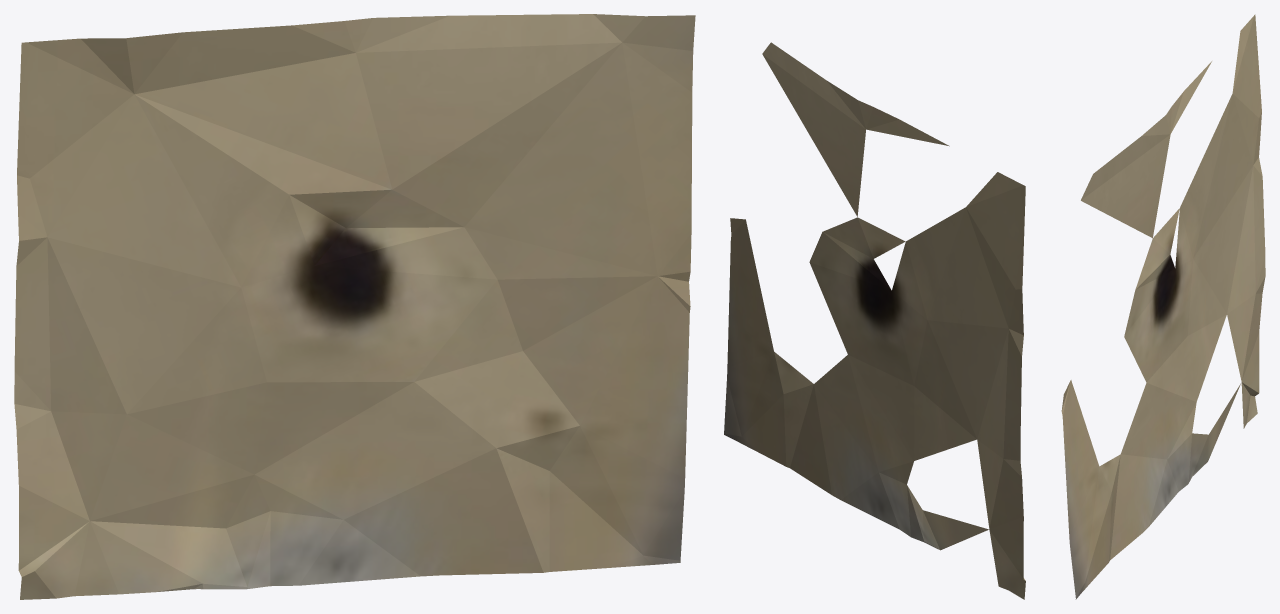
3 views of the same model, side by side, from view 1: azimuth 30°, elevation 25°; view 2: azimuth 150°, elevation 25°; view 3: azimuth 270°, elevation 25° (orthographic). The views are drawn at different scales.
Bounding box in the file's own units: 0.8373 × 0.8374 × 0.4009.
3 materials, 3 textured.
